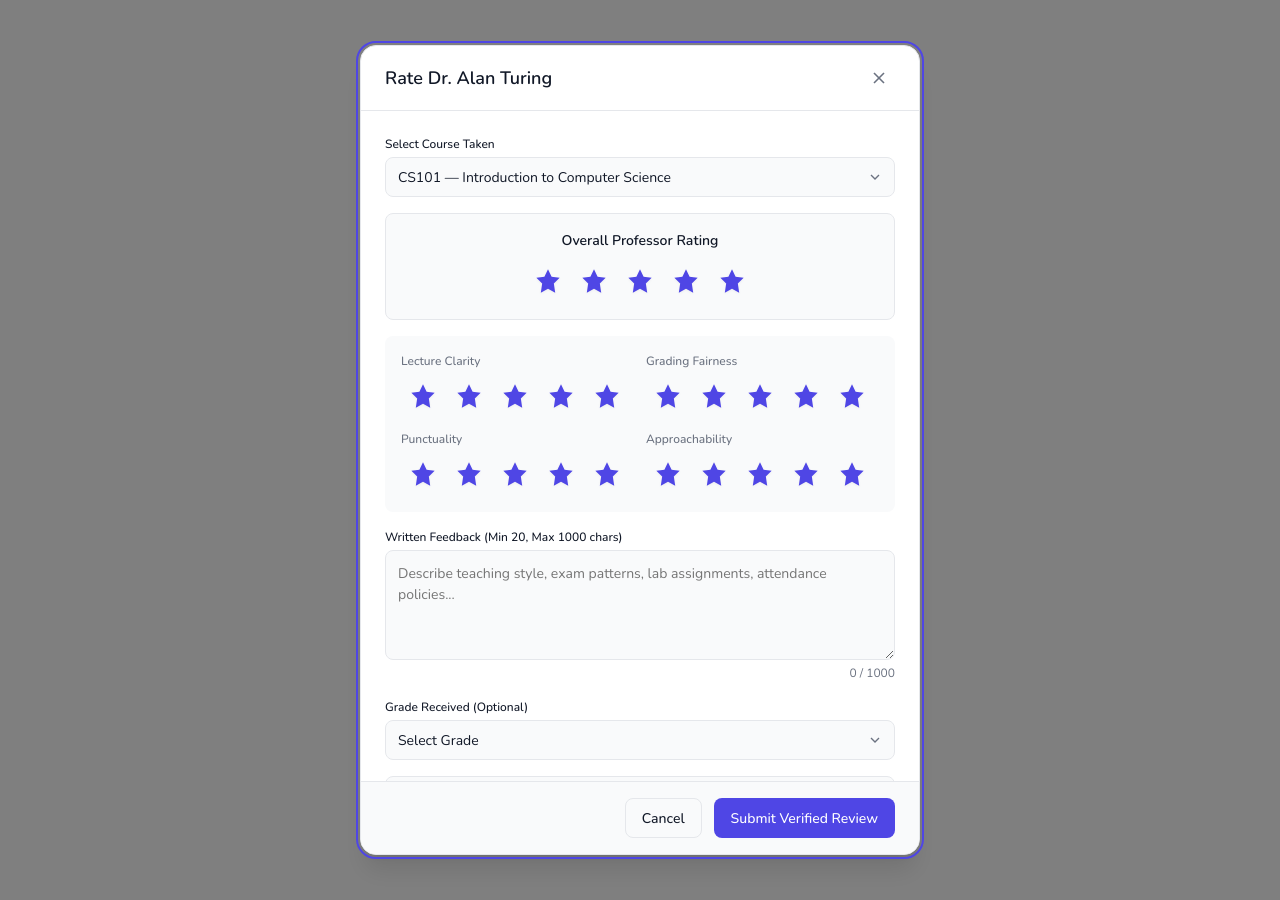
Test case: WriteReviewModal Component › submits form successfully when review text is valid
The width and height of the screenshot is (1280, 900).
Replace the text in the text box with placeholder "Describe teaching style" with "This is a great professor who explains algorithms clearly and thoroughly." at (640, 605), box [385,550,895,660]
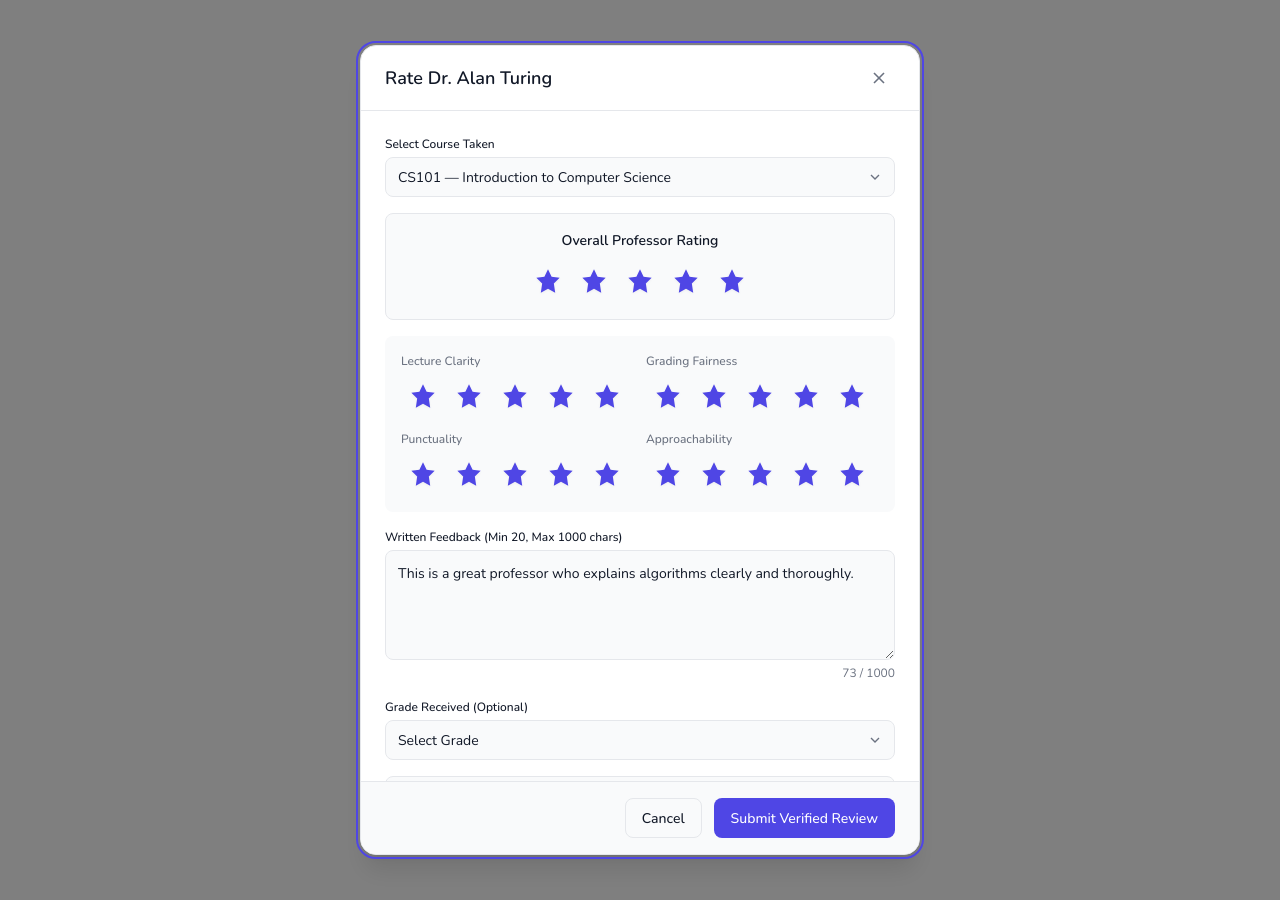
Click the button "Submit Verified Review" at (804, 818), box [714,798,895,838]
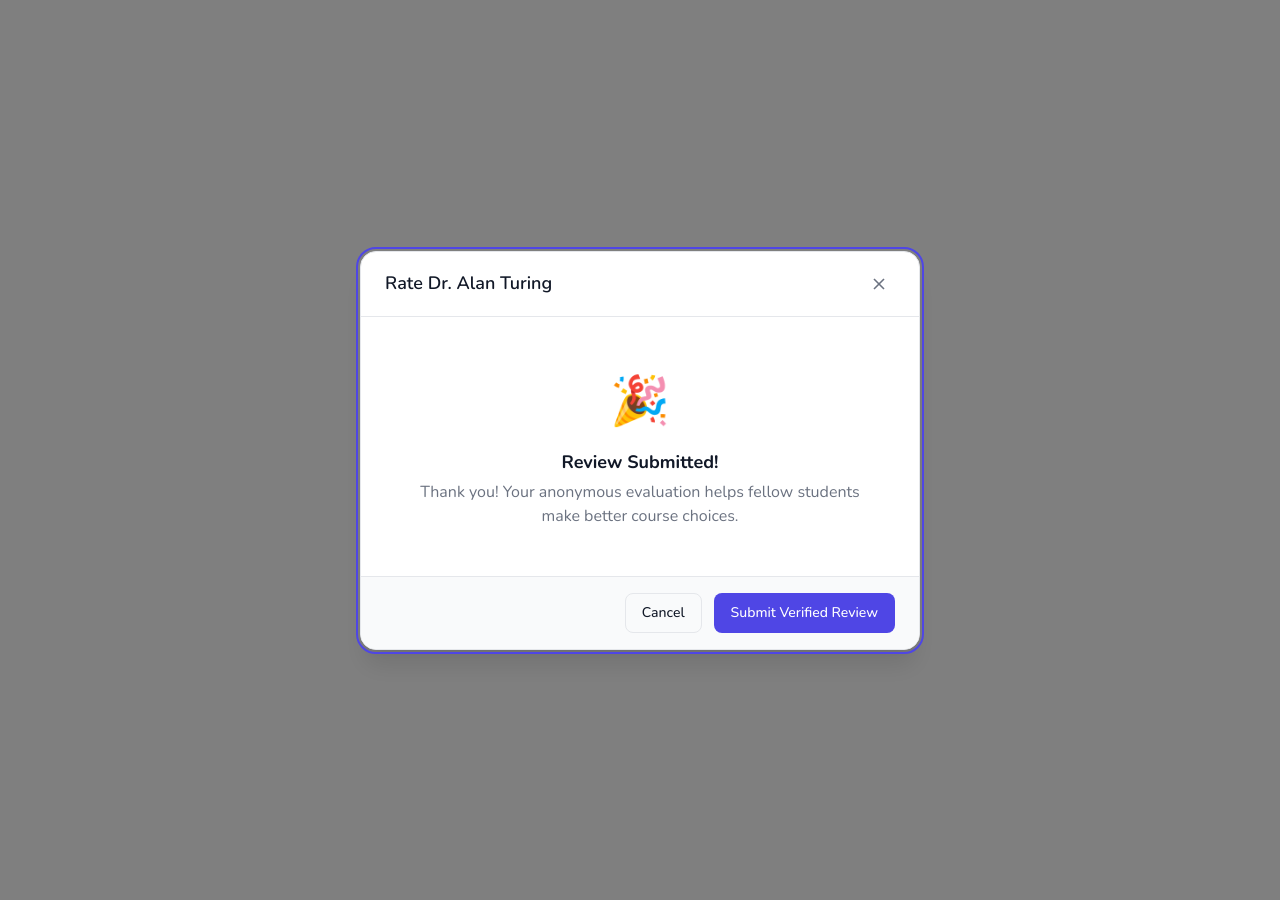
Expected: the heading "Review Submitted!" is shown, [562,450,718,474]
